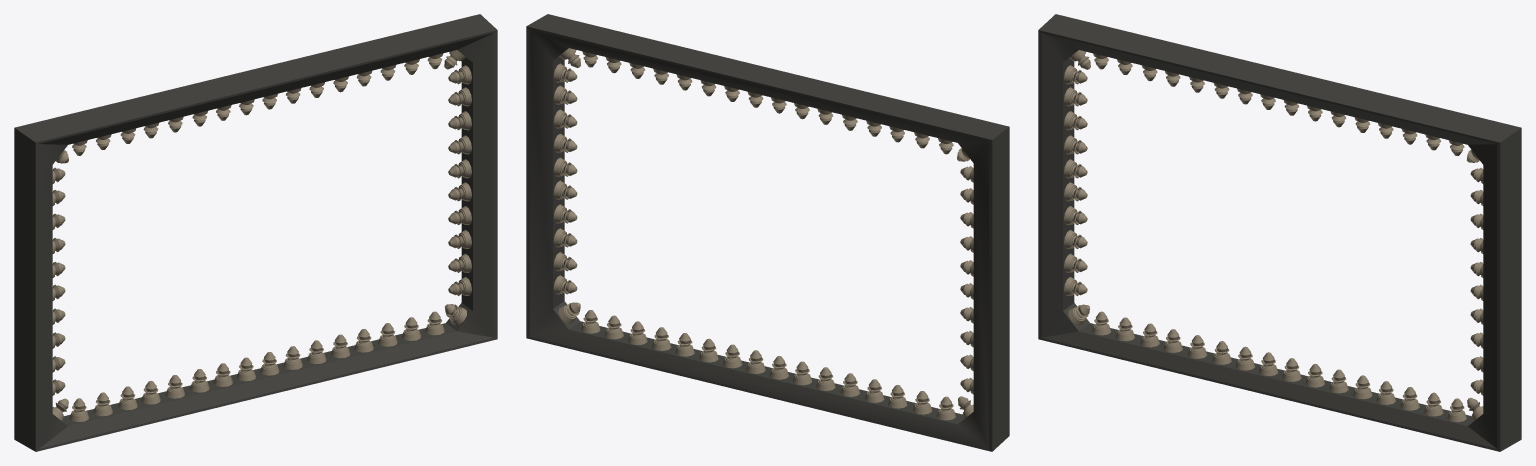
The model's file is Trampa Electrica.fbx.
3 renders of one model, left to right at view 1: azimuth 30°, elevation 25°; view 2: azimuth 150°, elevation 25°; view 3: azimuth 330°, elevation 25°, orthographic.
Visible parts, largest first — view 1: pCube1, pSphere46; view 2: pCube1, pSphere46; view 3: pCube1, pSphere46.
Part boxes in pixels (x1,y1,x2,y2): pCube1: (14, 14, 497, 451); pSphere46: (52, 50, 471, 421); pCube1: (526, 14, 1009, 451); pSphere46: (553, 48, 973, 420); pCube1: (1038, 14, 1521, 451); pSphere46: (1064, 50, 1483, 422).
Size of the model in its own units: 12.82 by 8.2 by 0.9247.
